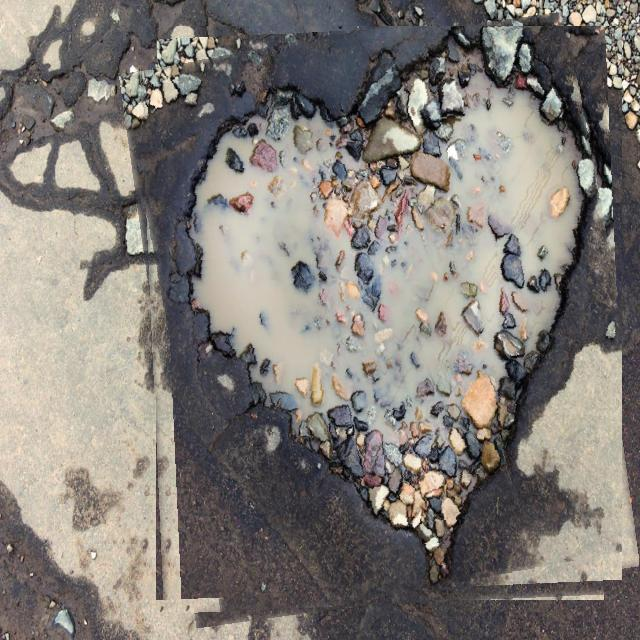Pothole: (138, 26, 622, 614)
